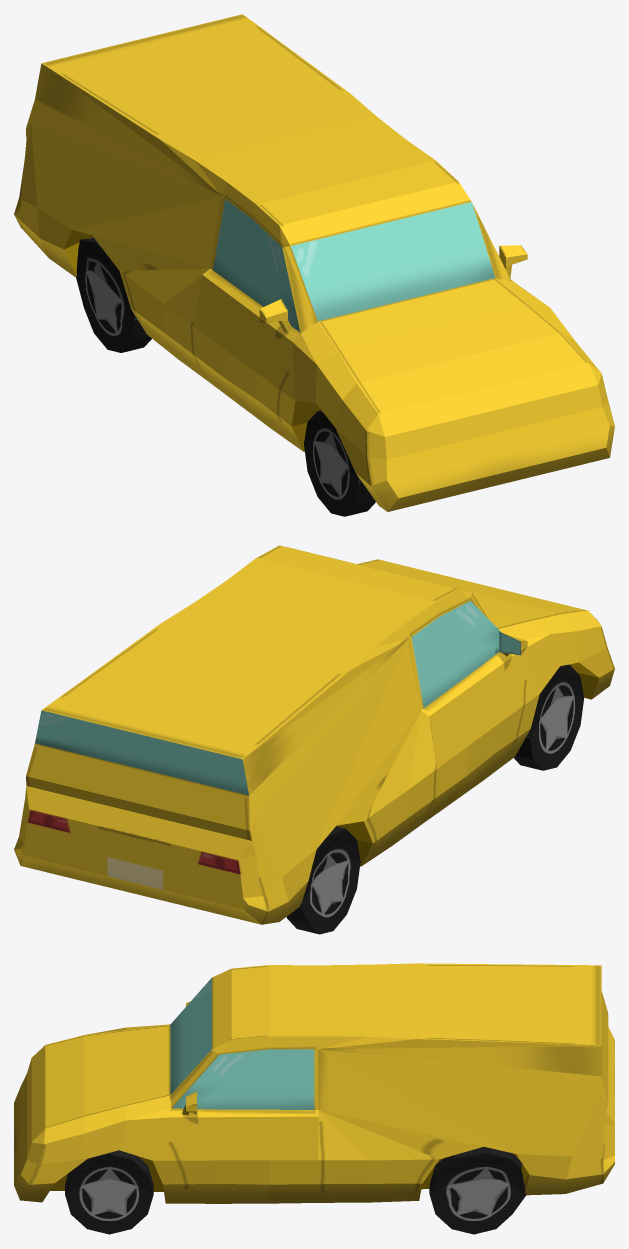
Rendered from decorCar3.fbx.
3 renders of one model, top to bottom at view 1: azimuth 30°, elevation 25°; view 2: azimuth 150°, elevation 25°; view 3: azimuth 270°, elevation 25°, orthographic. The views are drawn at different scales.
Parts seen in each view (by area): view 1: DecorCar_3; view 2: DecorCar_3; view 3: DecorCar_3.
Boxes of the visible parts, x1,y1,x2,y2 form: DecorCar_3: (14, 14, 614, 516); DecorCar_3: (14, 545, 614, 934); DecorCar_3: (14, 963, 614, 1234).
Size of the model in its own units: 271 by 230 by 662.
